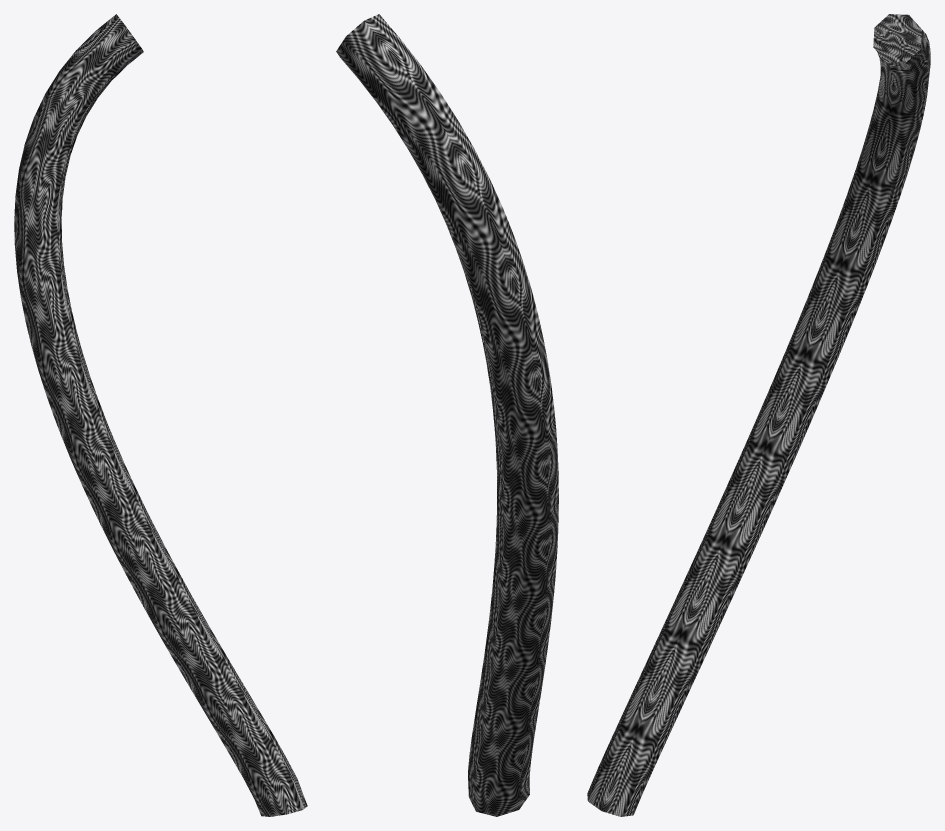
The model's file is Spline .obj.
The picture shows the model from 3 angles, left to right: view 1: azimuth 30°, elevation 25°; view 2: azimuth 150°, elevation 25°; view 3: azimuth 270°, elevation 25°; orthographic projection. The views are drawn at different scales.
Parts seen in each view (by area): view 1: Spline; view 2: Spline; view 3: Spline.
Boxes of the visible parts, x1,y1,x2,y2 form: Spline: (14,14,307,816); Spline: (336,14,558,816); Spline: (587,14,930,816).
Bounding box in the file's own units: 1.98 × 8.22 × 3.28.
1 material, 1 textured.
